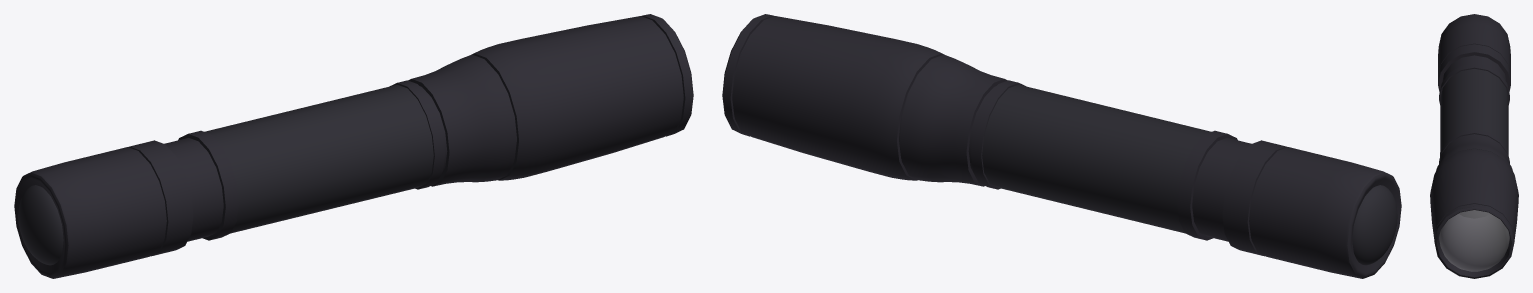
The model's file is flashlight.glb.
The picture shows the model from 3 angles, left to right: view 1: azimuth 30°, elevation 25°; view 2: azimuth 150°, elevation 25°; view 3: azimuth 270°, elevation 25°; orthographic projection. The views are drawn at different scales.
Visible parts, largest first — view 1: Handle; view 2: Handle; view 3: Handle, Lens.
Boxes of the visible parts, box(x1,y1,x2,y2) form: Handle: box(14, 14, 693, 278); Handle: box(722, 14, 1401, 278); Handle: box(1430, 14, 1518, 278); Lens: box(1439, 210, 1509, 271).
Size of the model in its own units: 0.2867 by 0.052 by 0.052.
Materials: 2 (1 with a texture image).
